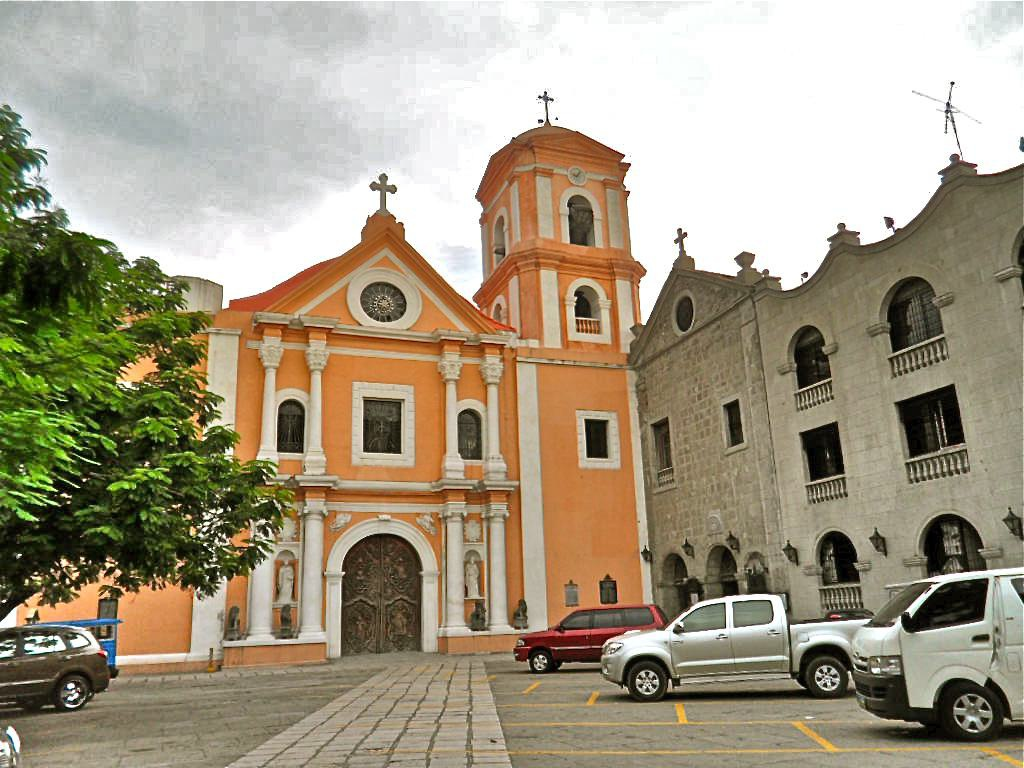san_agustin_church_intramuros_manila: (222, 85, 660, 662)
